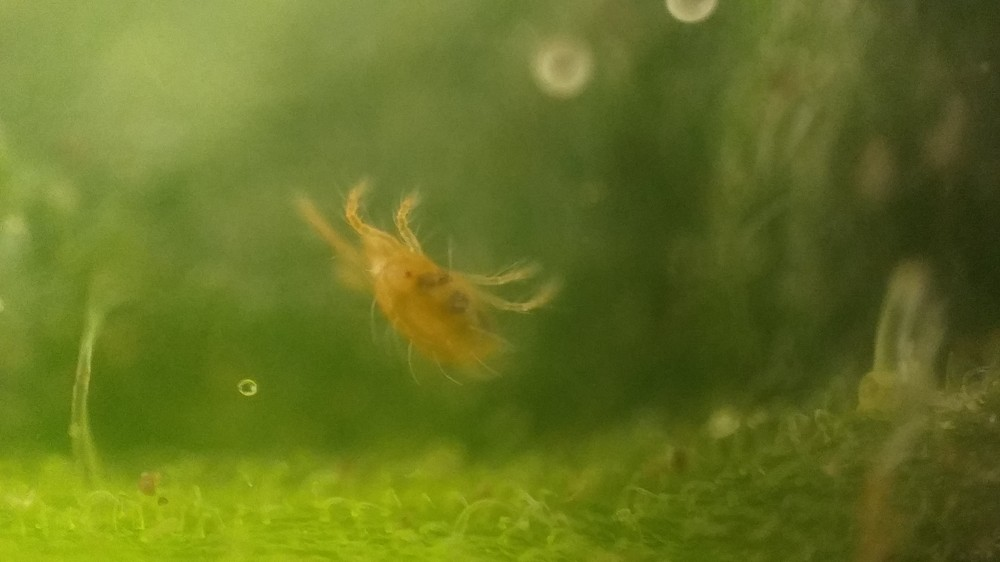Aracnido Rojo: (289, 162, 598, 419)
